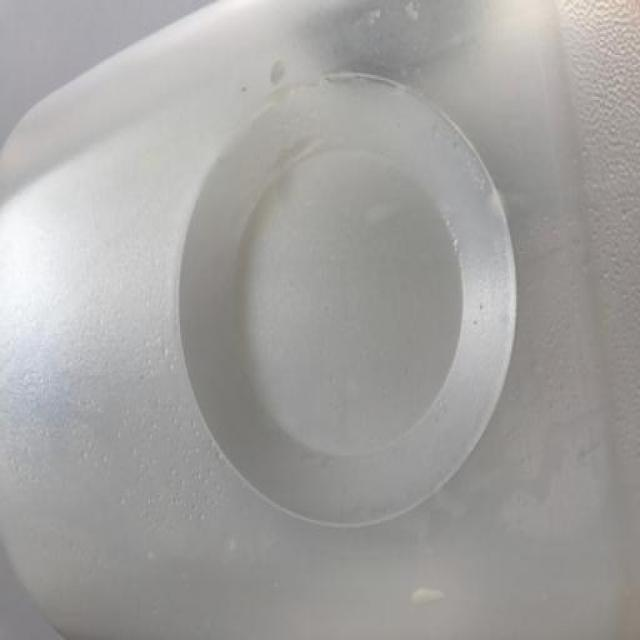Waste: (180, 73, 518, 527)
